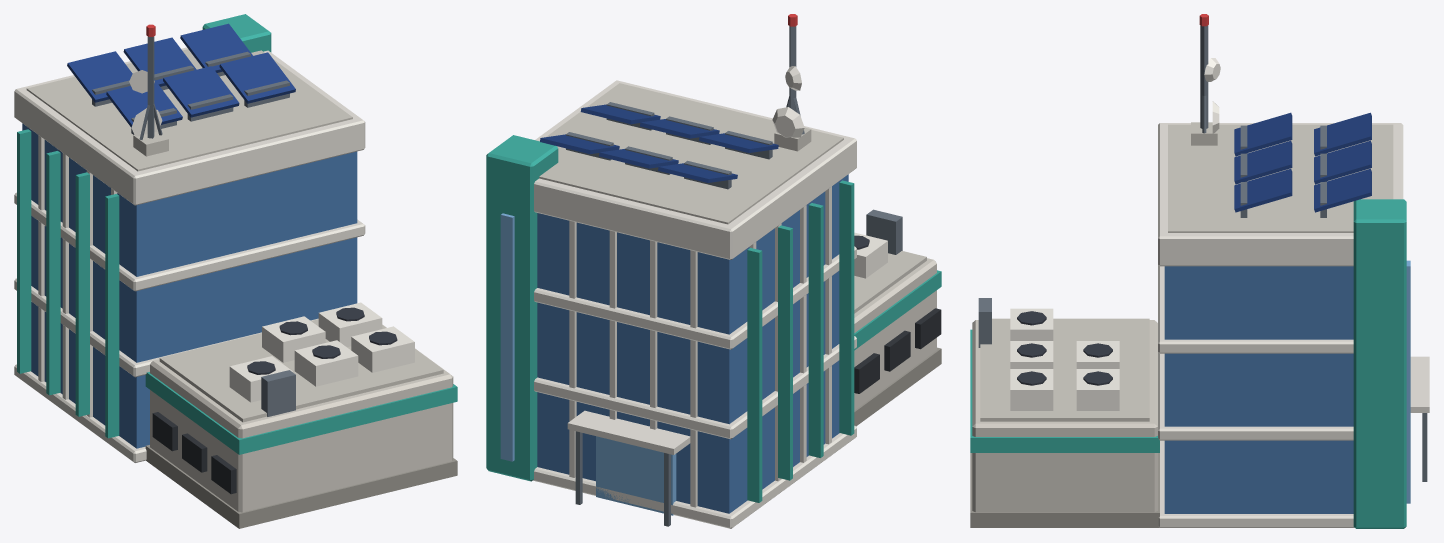
Rendered from galpao_tecnologia.glb.
3 views of the same model, side by side, from view 1: azimuth 30°, elevation 25°; view 2: azimuth 150°, elevation 25°; view 3: azimuth 270°, elevation 25° (orthographic). The views are drawn at different scales.
Parts seen in each view (by area): view 1: corpo; view 2: corpo; view 3: corpo.
Part boxes in pixels (x1,y1,x2,y2): corpo: (14,14,457,528); corpo: (486,14,941,528); corpo: (970,14,1429,528).
Size of the model in its own units: 0.87 by 1.39 by 1.39.
